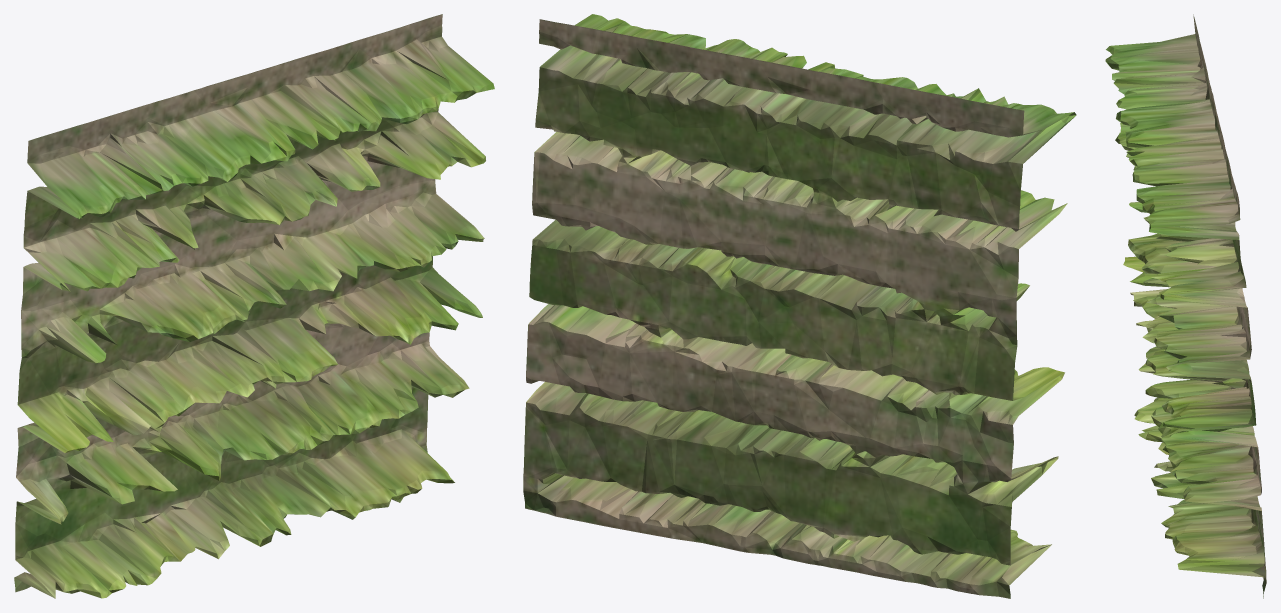
The model's file is map_70_20.obj.
3 renders of one model, left to right at view 1: azimuth 30°, elevation 25°; view 2: azimuth 150°, elevation 25°; view 3: azimuth 270°, elevation 25°, orthographic. The views are drawn at different scales.
Parts seen in each view (by area): view 1: grp1; view 2: grp1; view 3: grp1.
Part boxes in pixels (x1,y1,x2,y2): grp1: [14, 14, 494, 598]; grp1: [523, 14, 1076, 598]; grp1: [1105, 14, 1266, 598].
Size of the model in its own units: 10 by 10 by 3.66.
1 material, 1 textured.
